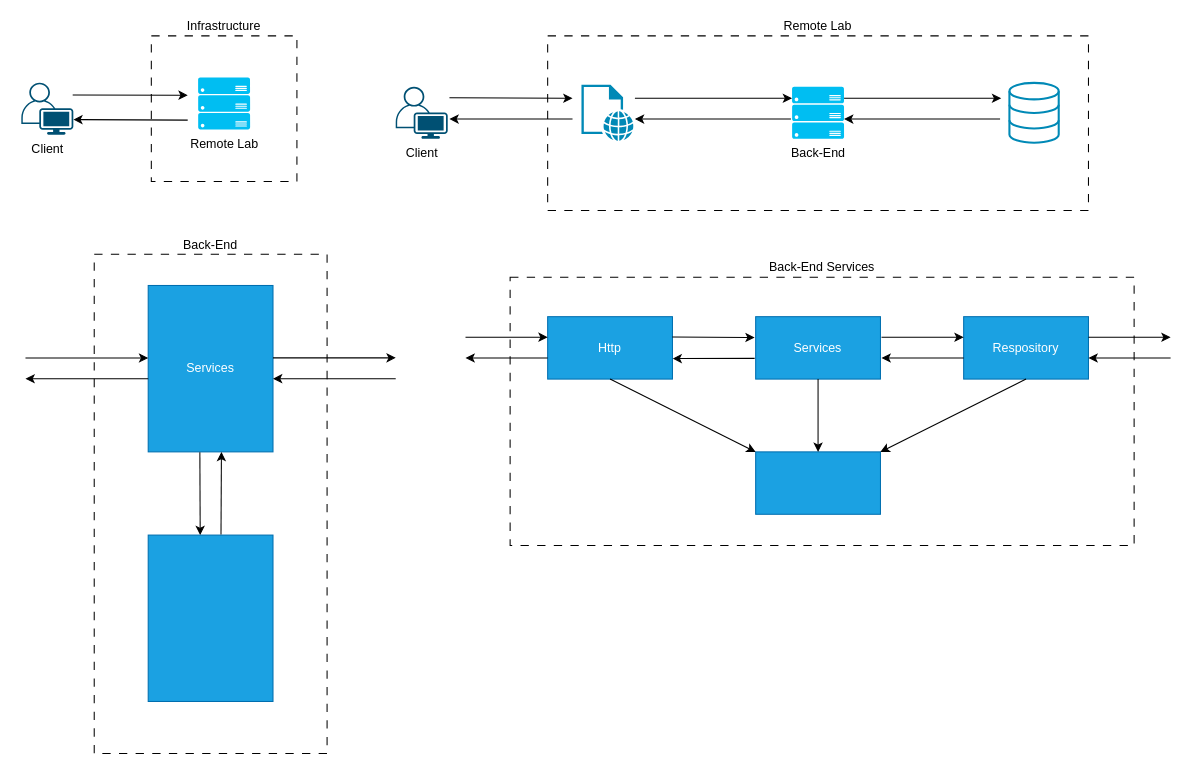
Image size: 1198x772. Some labels were removed from this diagram. The centre of each missing label's shape, as x and y in pixels:
Authentication Server: (x=210, y=617)
Database: (x=1033, y=112)
Domain: (x=817, y=482)
Front-End: (x=607, y=112)
